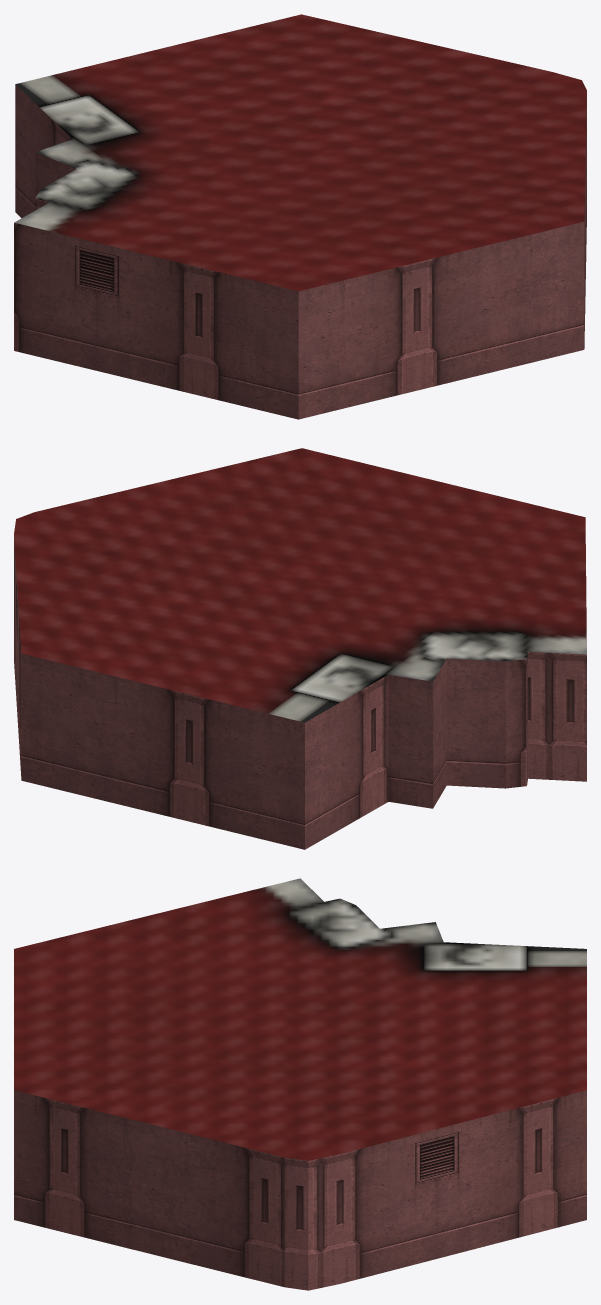
The model's file is hardened_roof31.glb.
3 renders of one model, top to bottom at view 1: azimuth 30°, elevation 25°; view 2: azimuth 150°, elevation 25°; view 3: azimuth 270°, elevation 25°, orthographic. The views are drawn at different scales.
Visible parts, largest first — view 1: buildings/saxarba/hard/hardened_roof31; view 2: buildings/saxarba/hard/hardened_roof31; view 3: buildings/saxarba/hard/hardened_roof31.
Boxes of the visible parts, x1,y1,x2,y2 form: buildings/saxarba/hard/hardened_roof31: [14, 14, 586, 419]; buildings/saxarba/hard/hardened_roof31: [14, 448, 586, 849]; buildings/saxarba/hard/hardened_roof31: [14, 878, 586, 1290].
Bounding box in the file's own units: 84 × 18 × 72.
